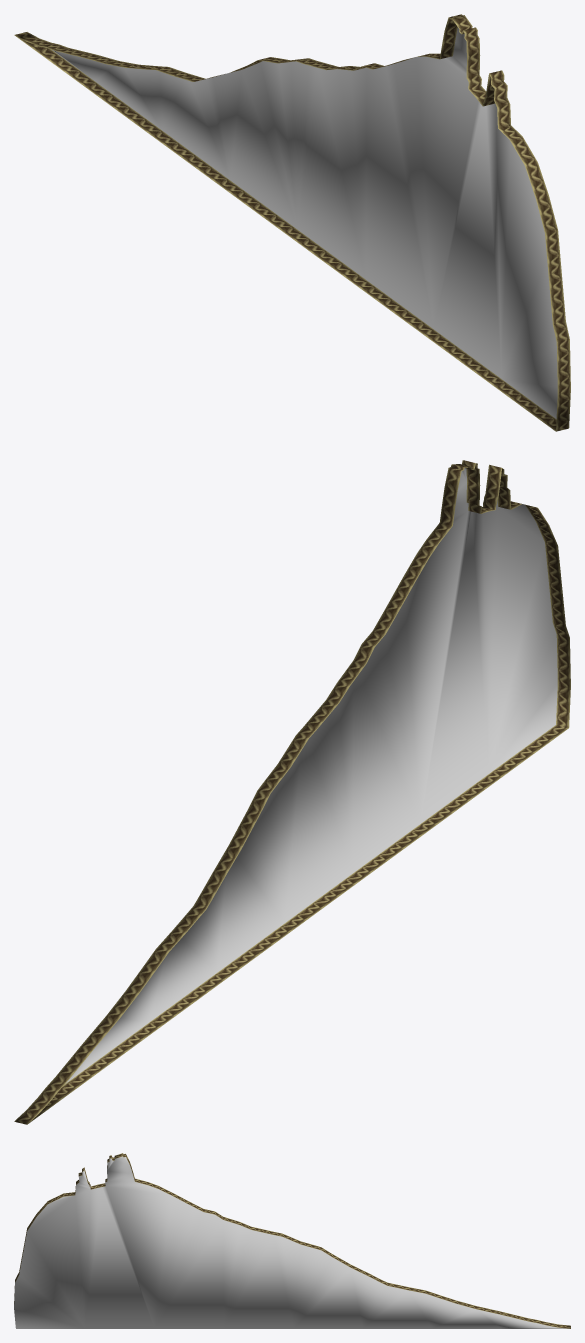
Rendered from ground6.fbx.
3 views of the same model, one above another, from view 1: azimuth 30°, elevation 25°; view 2: azimuth 150°, elevation 25°; view 3: azimuth 270°, elevation 25° (orthographic). The views are drawn at different scales.
Visible parts, largest first — view 1: ground_06; view 2: ground_06; view 3: ground_06.
Boxes of the visible parts, x1,y1,x2,y2 form: ground_06: (14, 14, 570, 431); ground_06: (14, 460, 570, 1124); ground_06: (14, 1153, 570, 1328).
Bounding box in the file's own units: 0.0925 × 2.26 × 6.62.
